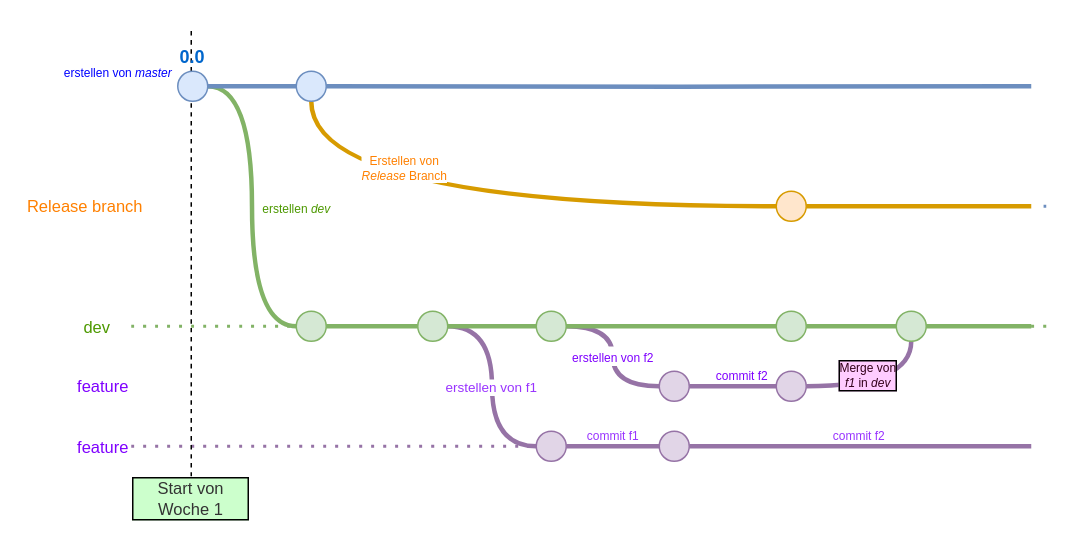
Image size: 1074x548. Some labels were removed from this diagram. The shapes that lost their labels are listed below. From the top down, each one's box as (x1, y1, x2, y2) in pixels, then its label:
(658, 370, 689, 401): f2
(535, 430, 566, 461): f1
